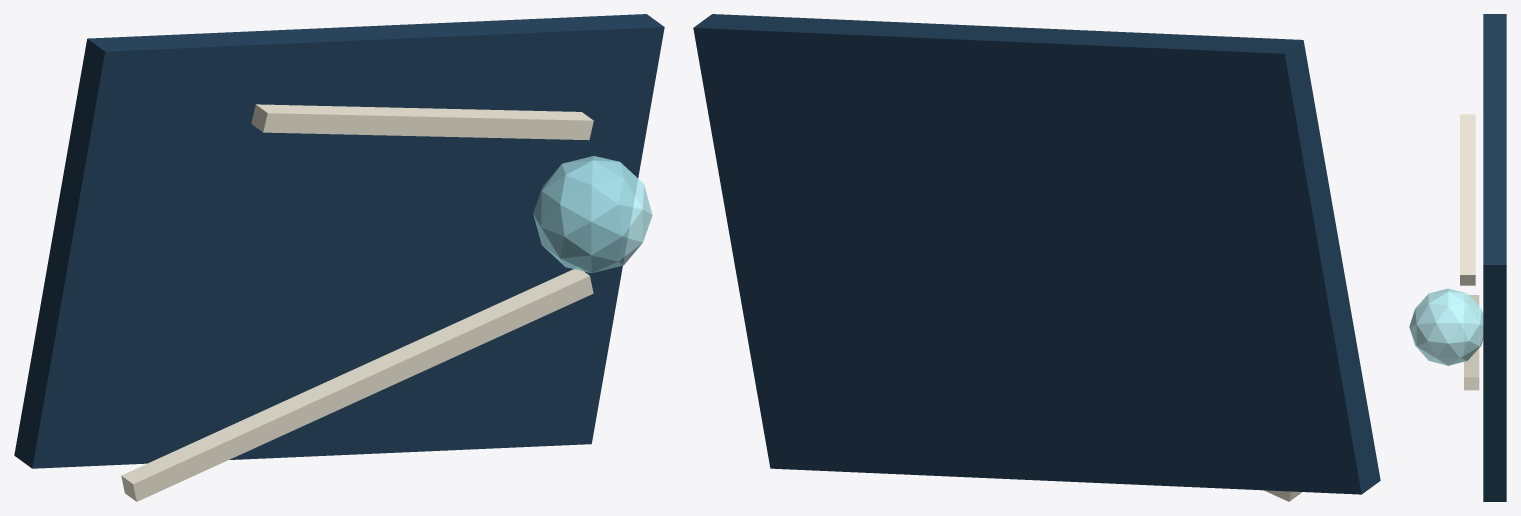
The model's file is 02_world_prop_polish.glb.
The picture shows the model from 3 angles, left to right: view 1: azimuth 30°, elevation 25°; view 2: azimuth 150°, elevation 25°; view 3: azimuth 270°, elevation 25°; orthographic projection. The views are drawn at different scales.
Parts seen in each view (by area): view 1: object_overlay_plate, edge_wear_a, glow_socket, edge_wear_b; view 2: object_overlay_plate; view 3: object_overlay_plate, glow_socket, edge_wear_b, edge_wear_a.
Boxes of the visible parts, x1,y1,x2,y2 form: object_overlay_plate: (14, 14, 664, 468); edge_wear_a: (121, 268, 593, 501); glow_socket: (533, 156, 652, 273); edge_wear_b: (251, 104, 593, 140); object_overlay_plate: (693, 14, 1380, 494); object_overlay_plate: (1483, 14, 1506, 501); glow_socket: (1409, 288, 1483, 365); edge_wear_b: (1460, 114, 1475, 285); edge_wear_a: (1464, 295, 1479, 390).
Bounding box in the file's own units: 1.22 × 0.9432 × 0.25.
